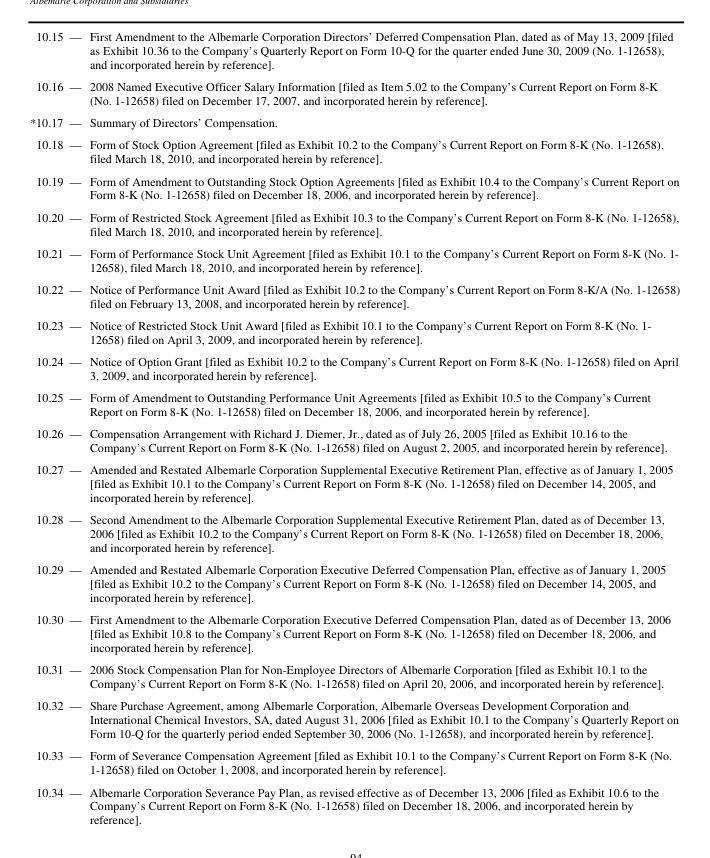table: (29, 28, 679, 826)
table column: (84, 28, 679, 826), (29, 28, 84, 826)
table row: (29, 458, 679, 508), (29, 508, 679, 558), (29, 558, 679, 608), (29, 608, 679, 658), (29, 694, 679, 744), (29, 28, 679, 75), (29, 780, 679, 826), (29, 313, 679, 350), (29, 75, 679, 111), (29, 133, 679, 169), (29, 169, 679, 205), (29, 205, 679, 241), (29, 241, 679, 277), (29, 277, 679, 313), (29, 350, 679, 386), (29, 386, 679, 422), (29, 422, 679, 458), (29, 658, 679, 694), (29, 744, 679, 780), (29, 111, 679, 133)
